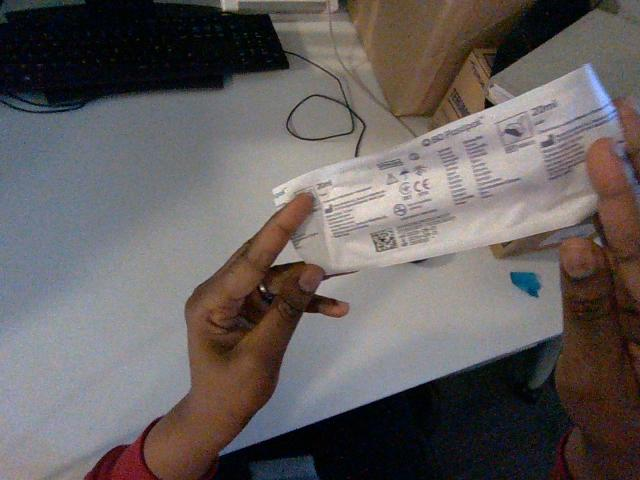syringe: (273, 65, 622, 272)
